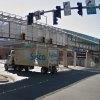Traffic light: (21, 7, 92, 28)
